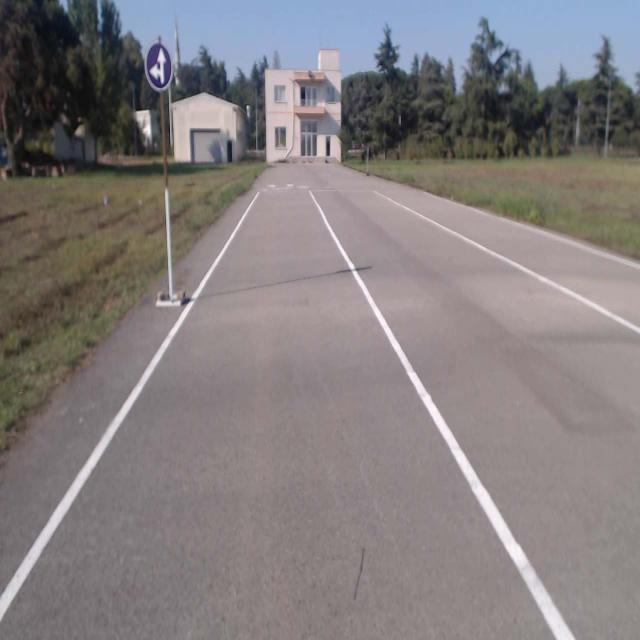ilerisol: (144, 41, 172, 90)
